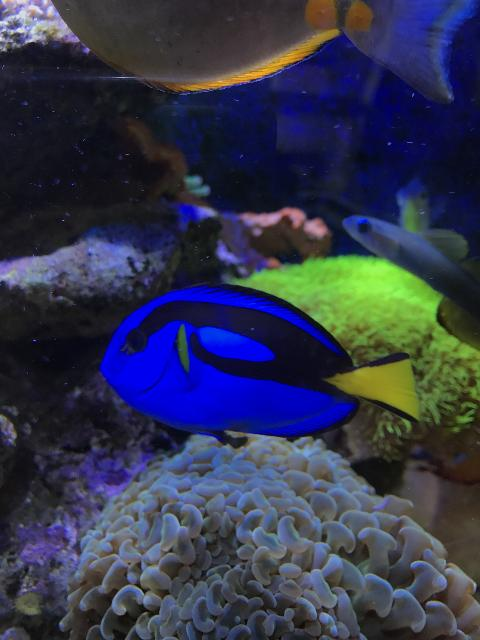Mulut: (83, 349, 123, 401)
Sirip Anal: (237, 392, 362, 441)
Sirip Dada: (152, 319, 206, 406)
Sirip Ekor: (346, 346, 428, 428)
Sirip Perut: (168, 420, 234, 452)
Sirip Punggung: (166, 276, 354, 364)
